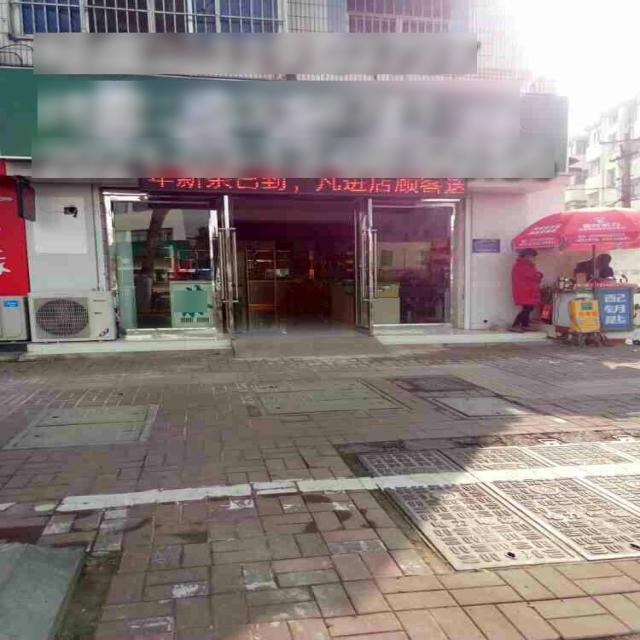Good: (345, 444, 640, 575), (1, 395, 179, 450), (384, 366, 552, 420), (239, 374, 409, 416)
